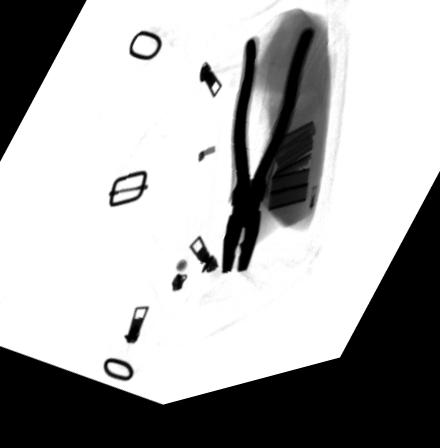Pliers: (218, 42, 316, 287)
